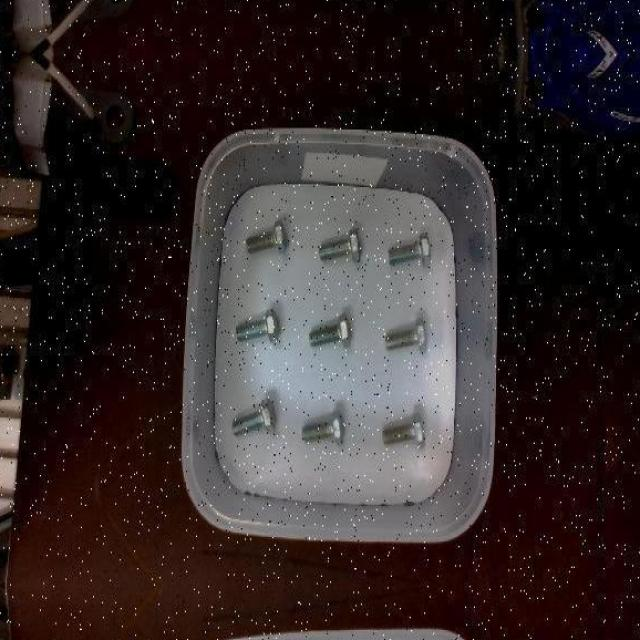screw: (232, 396, 277, 434), (236, 306, 279, 342), (308, 313, 351, 349), (381, 410, 424, 444), (319, 228, 361, 262), (388, 232, 430, 266), (386, 318, 426, 353), (304, 409, 344, 444), (246, 220, 287, 254)
